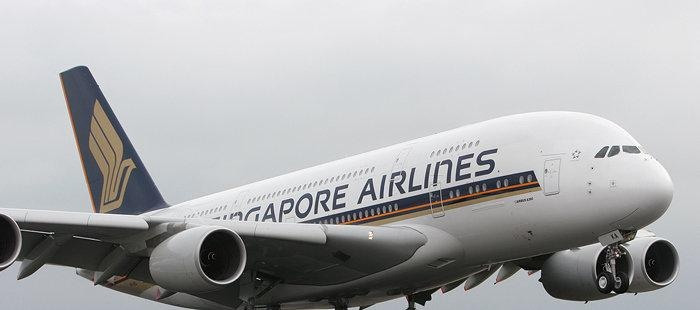airplane: (1, 59, 683, 310)
